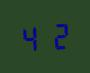four: (19, 22, 44, 52)
two: (45, 20, 70, 50)
